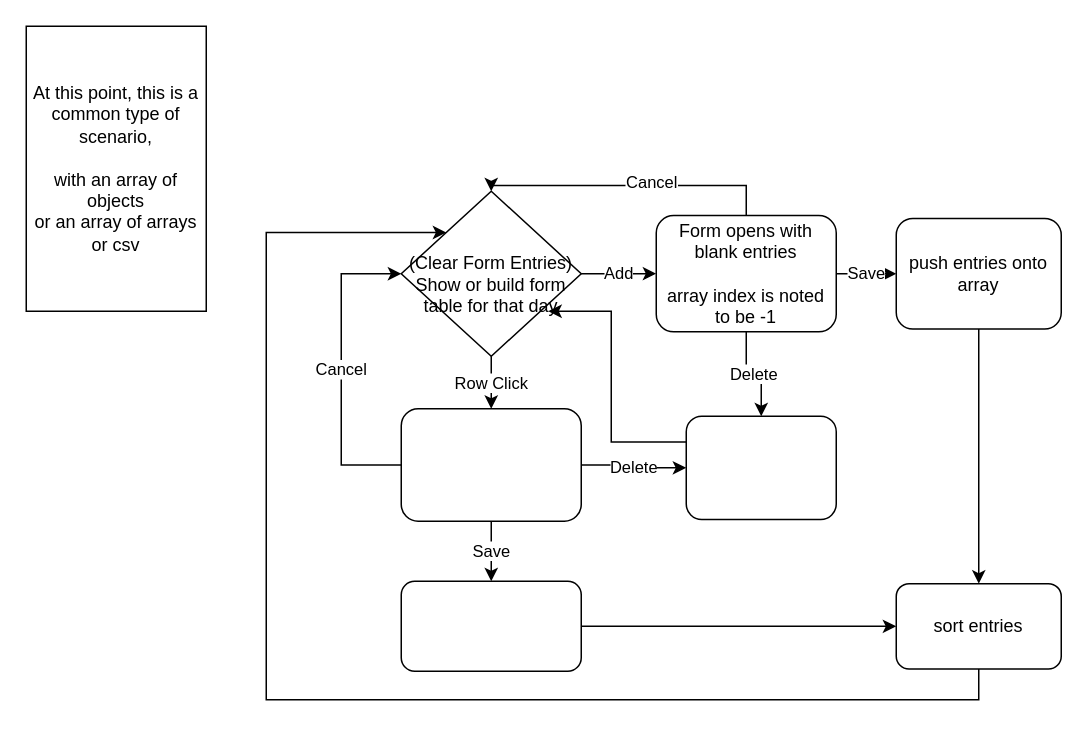
Image size: 1088x738. Some labels were removed from this diagram. Here are the shapes that lost their labels. From the top down, the centre of each, then its label:
At pixel 490 464: "Form opens with populated entries note is made of array index".
At pixel 760 467: "Remove array element at index if not -1".
At pixel 490 625: "Update entries at index".
